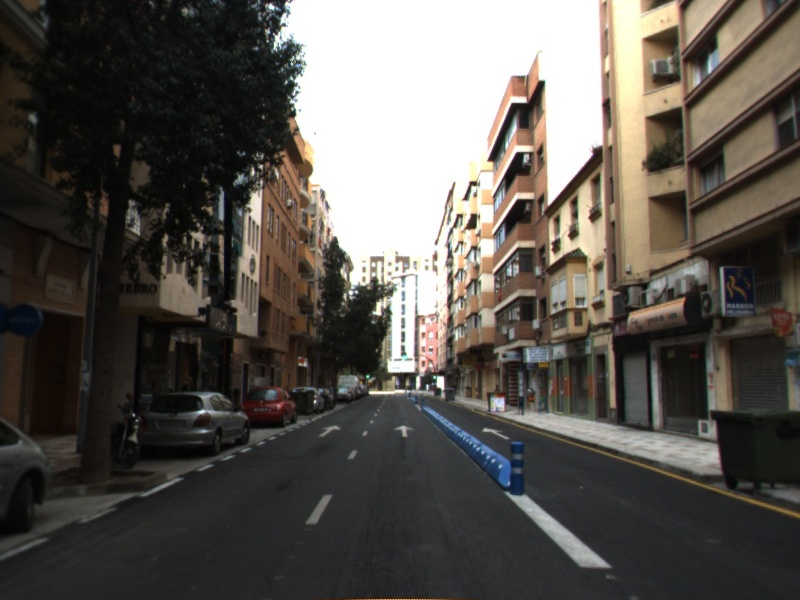STRAIGHT: (481, 425, 511, 441), (317, 423, 343, 438), (392, 423, 416, 439)
